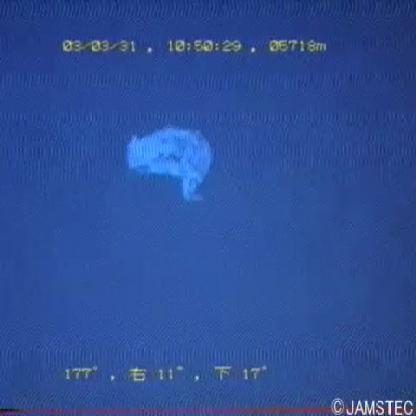Rác: (119, 116, 219, 220)
